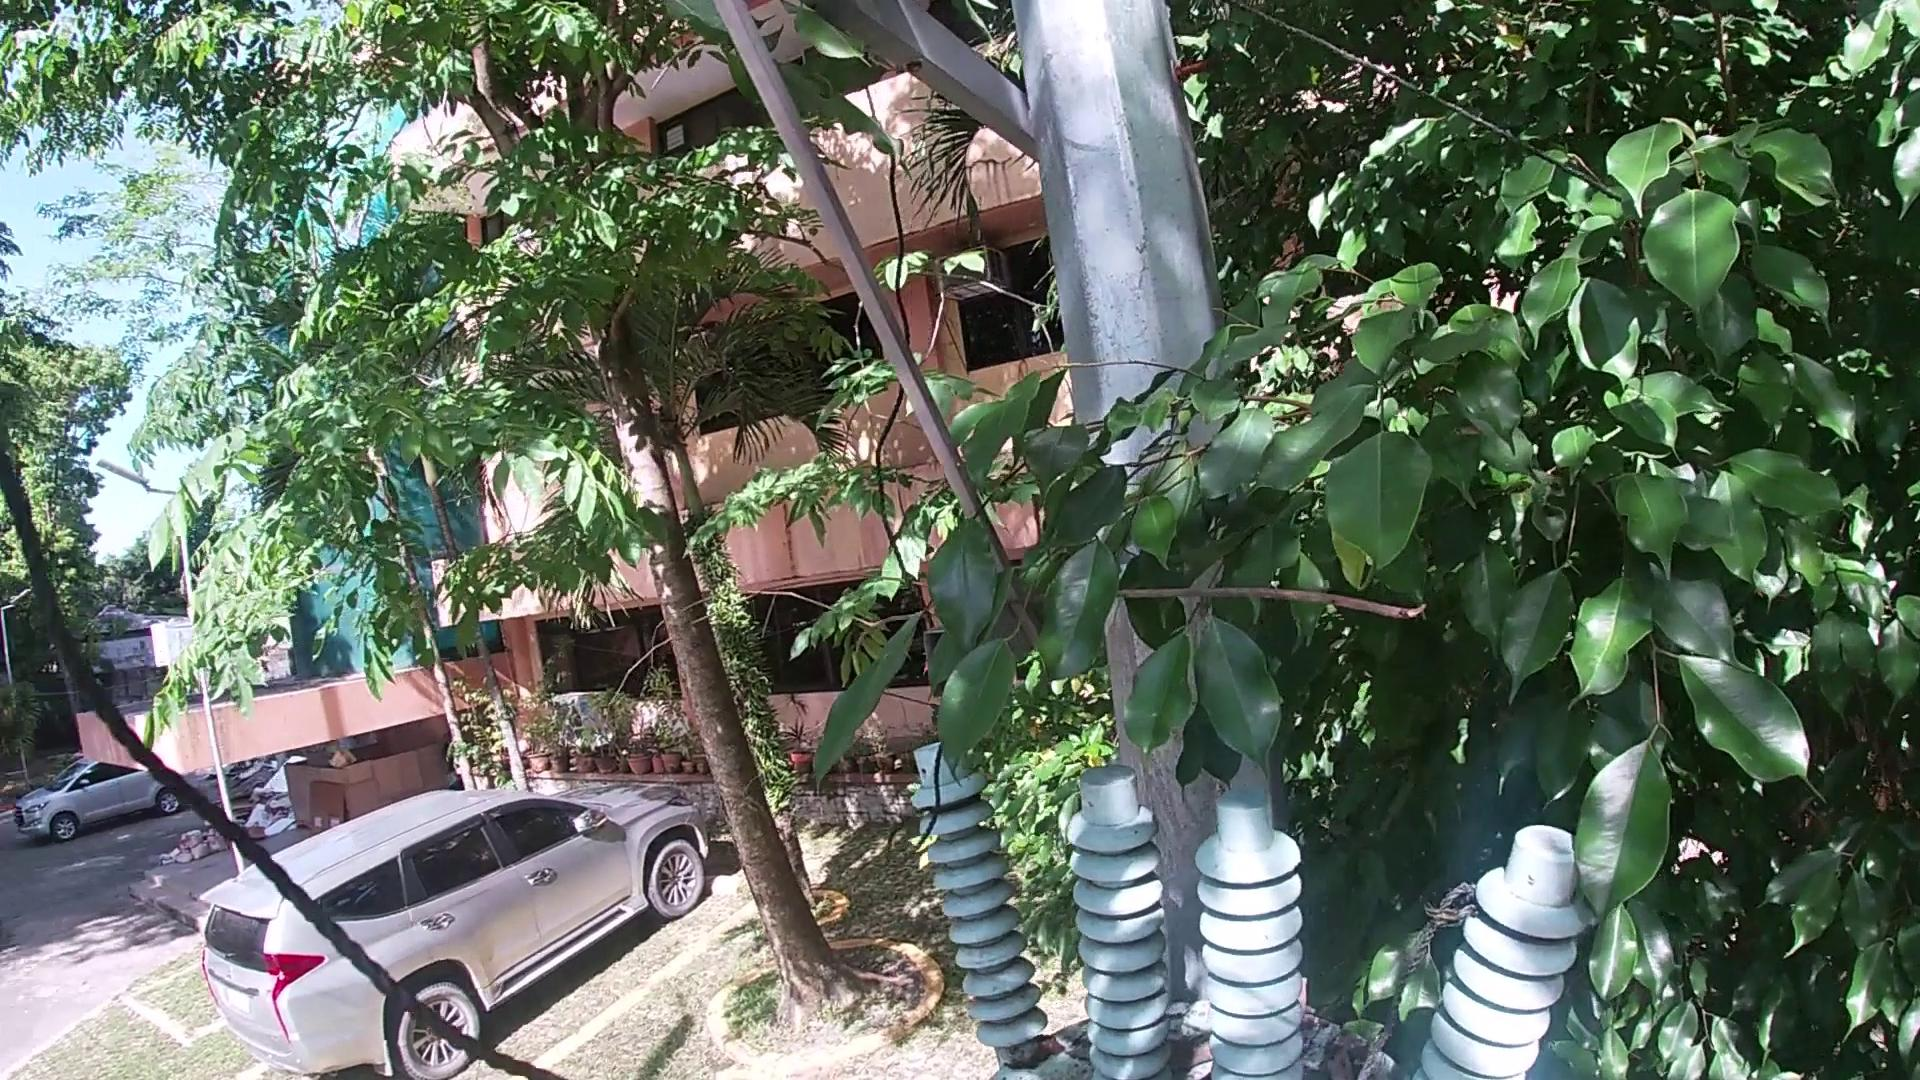tree branch: (564, 562, 1447, 742), (1164, 1030, 1222, 1075), (1333, 1039, 1379, 1080), (1298, 971, 1321, 1048)
